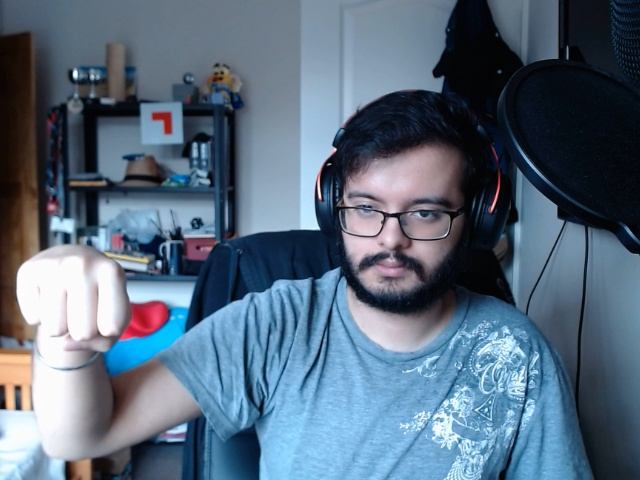Yes: (11, 229, 132, 358)
